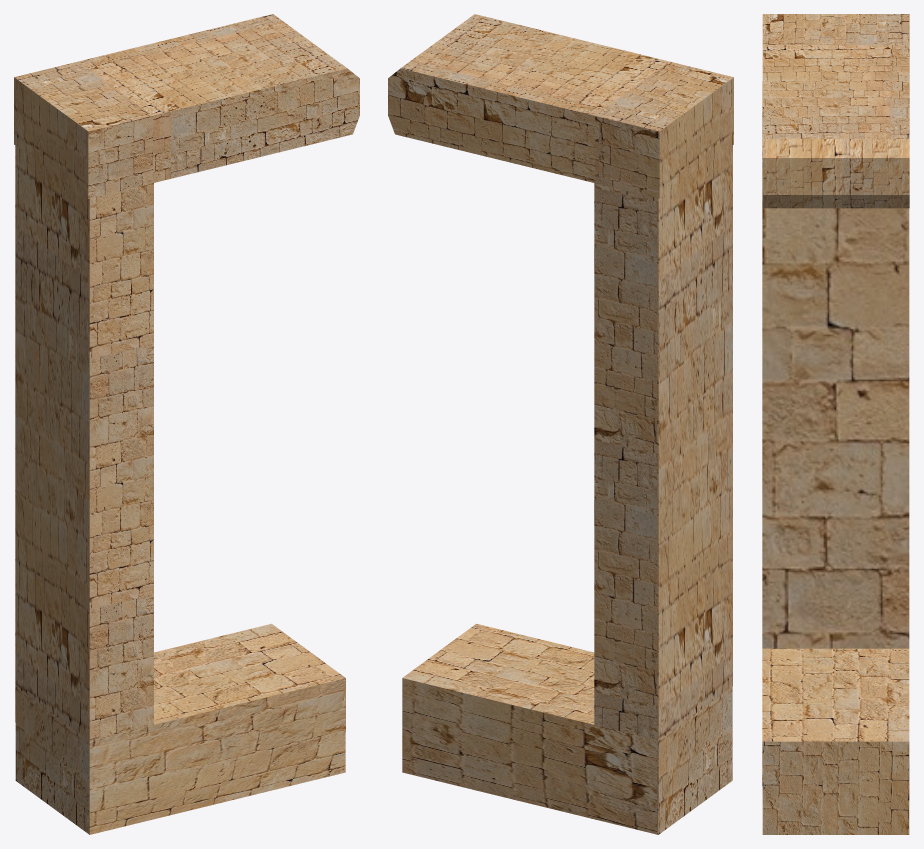
The model's file is Wall1.fbx.
3 views of the same model, side by side, from view 1: azimuth 30°, elevation 25°; view 2: azimuth 150°, elevation 25°; view 3: azimuth 270°, elevation 25° (orthographic).
Parts seen in each view (by area): view 1: Cube.003; view 2: Cube.003; view 3: Cube.003.
Boxes of the visible parts, <box> form: Cube.003: <box>14,14,359,834</box>; Cube.003: <box>388,14,733,834</box>; Cube.003: <box>762,14,909,834</box>.
Bounding box in the file's own units: 421 × 1044 × 200.
